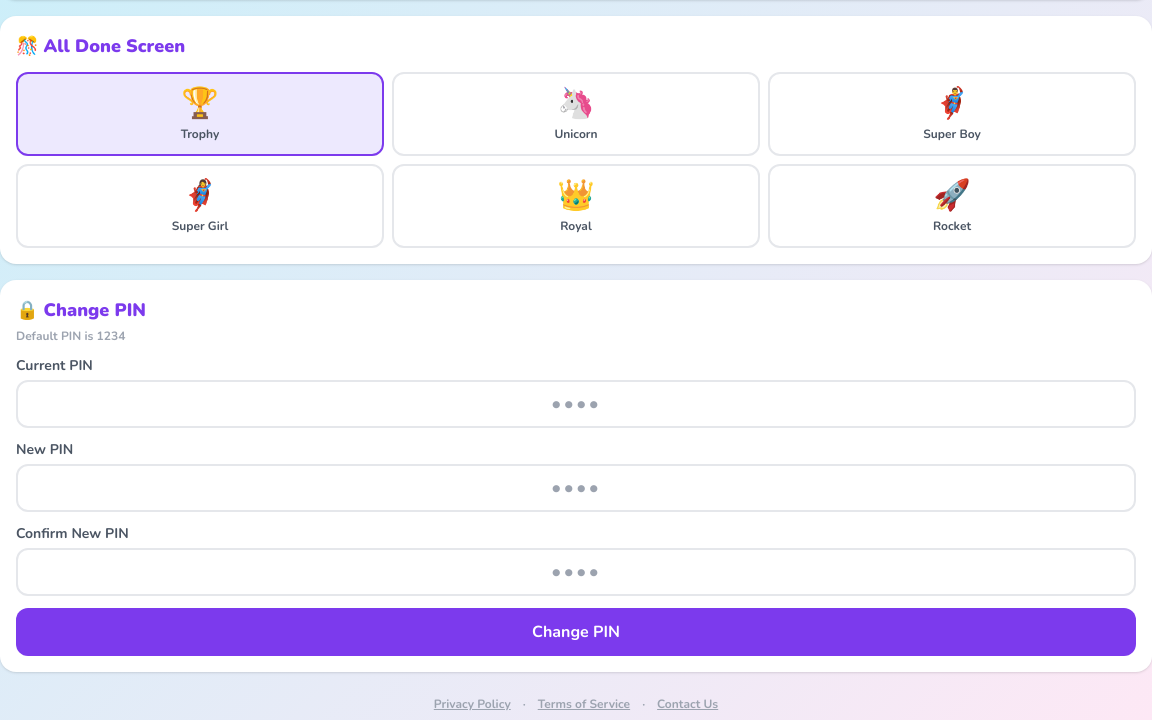
Settings — PIN change › shows error when new PIN and confirm do not match
(page scrolled)
Step 1. Type "1234" into the password field with placeholder "••••" below "Current PIN" → (576,404), box [16, 380, 1136, 428]
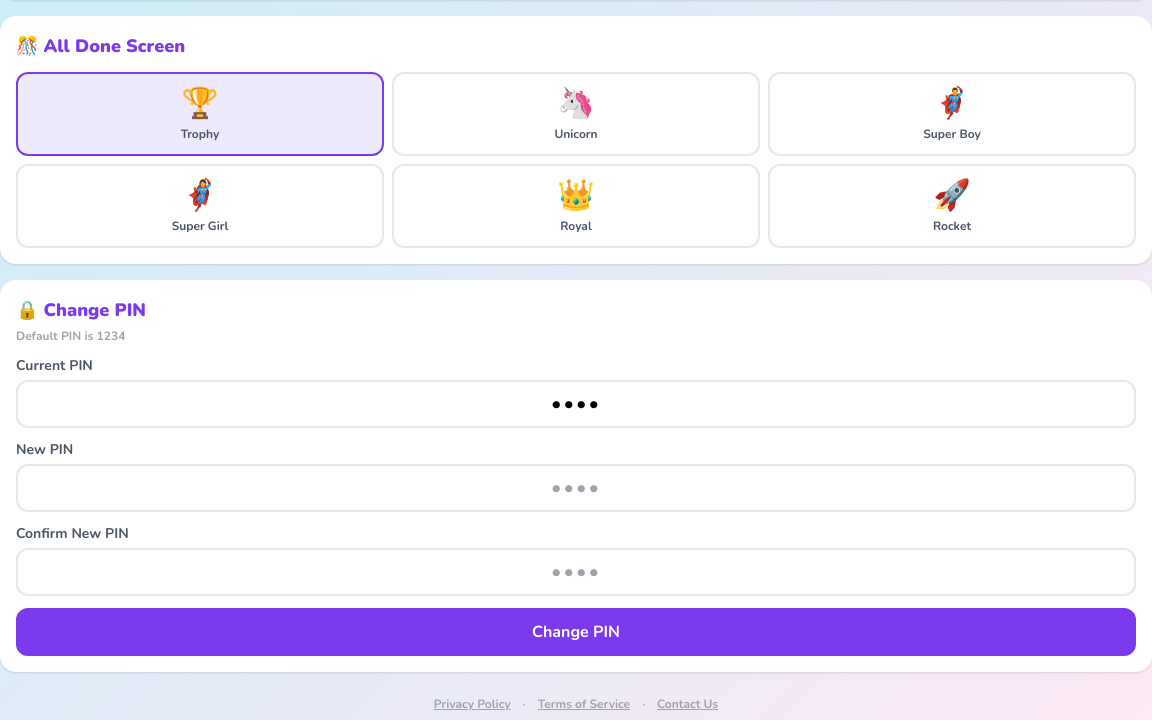
Step 2. Type "5678" into the 1st password field with placeholder "••••" → (576,488), box [16, 464, 1136, 512]
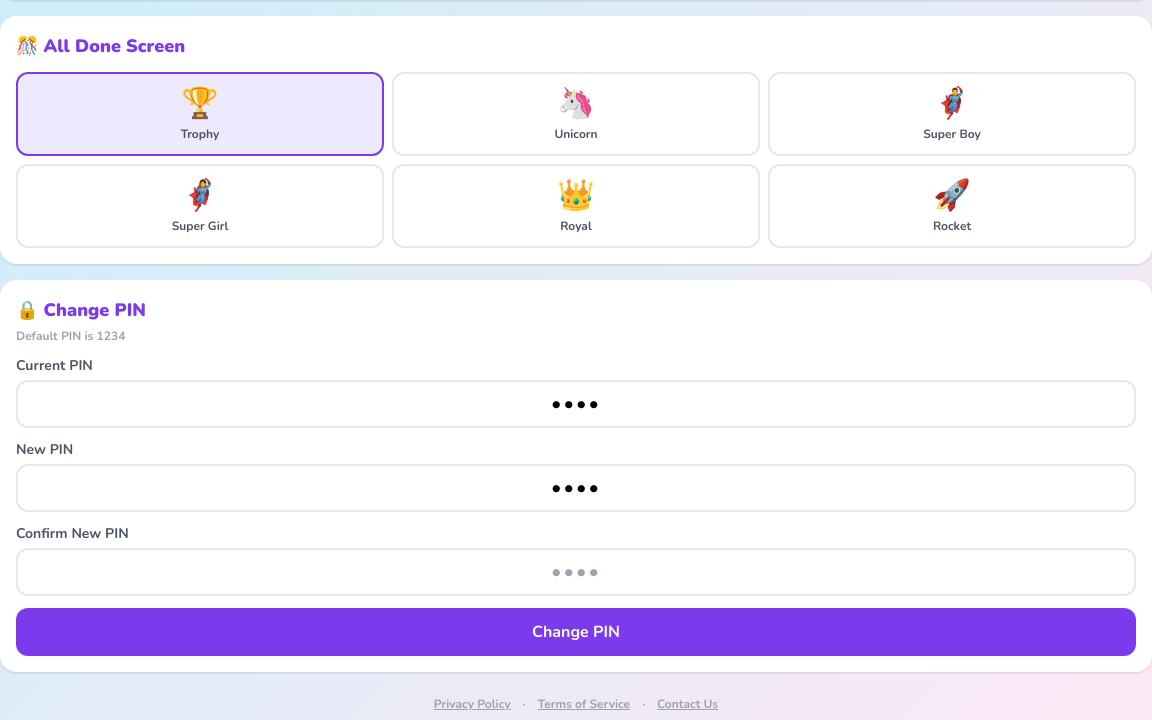
Step 3. Type "9999" into the password field with placeholder "••••" → (576,572), box [16, 548, 1136, 596]
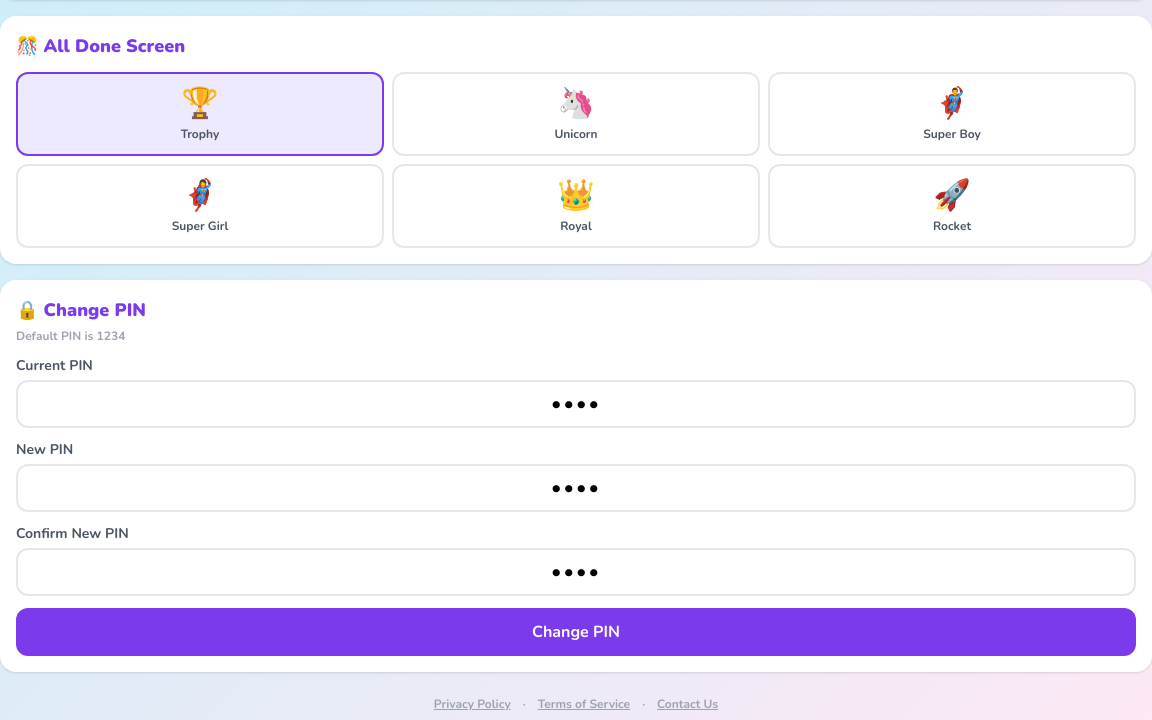
Step 4. Click the button "Change PIN" → (576,632), box [16, 608, 1136, 656]
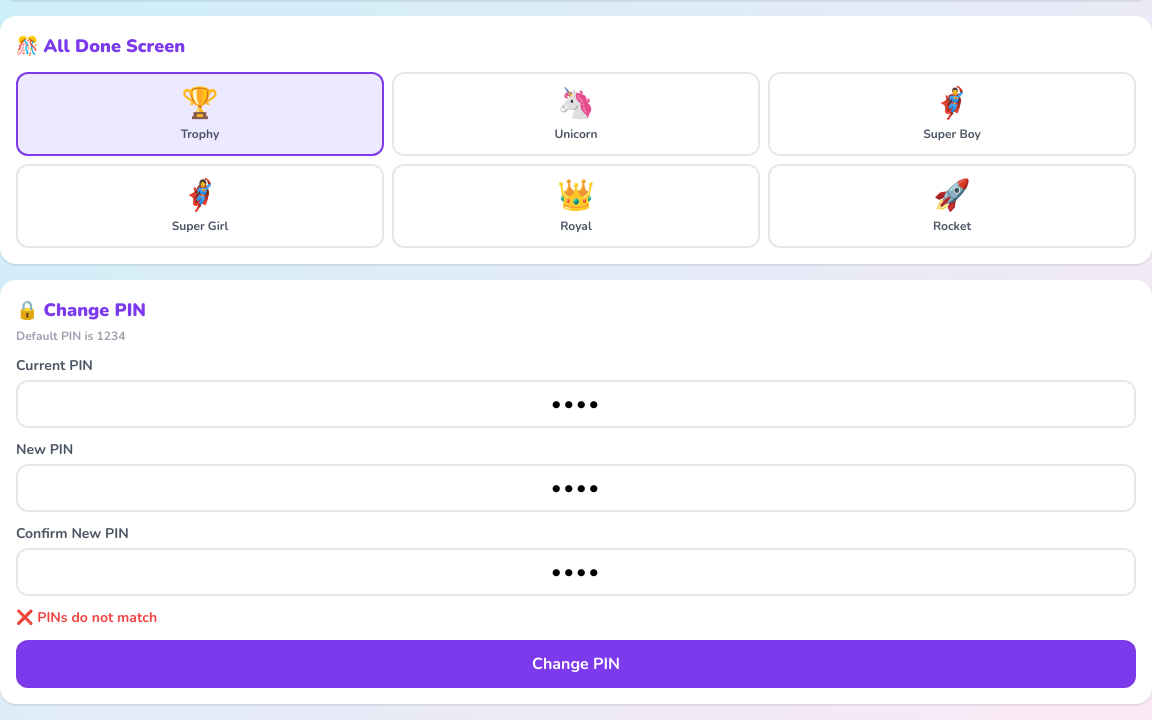
Now the text "❌ PINs do not match" is shown, box [16, 608, 157, 627]
